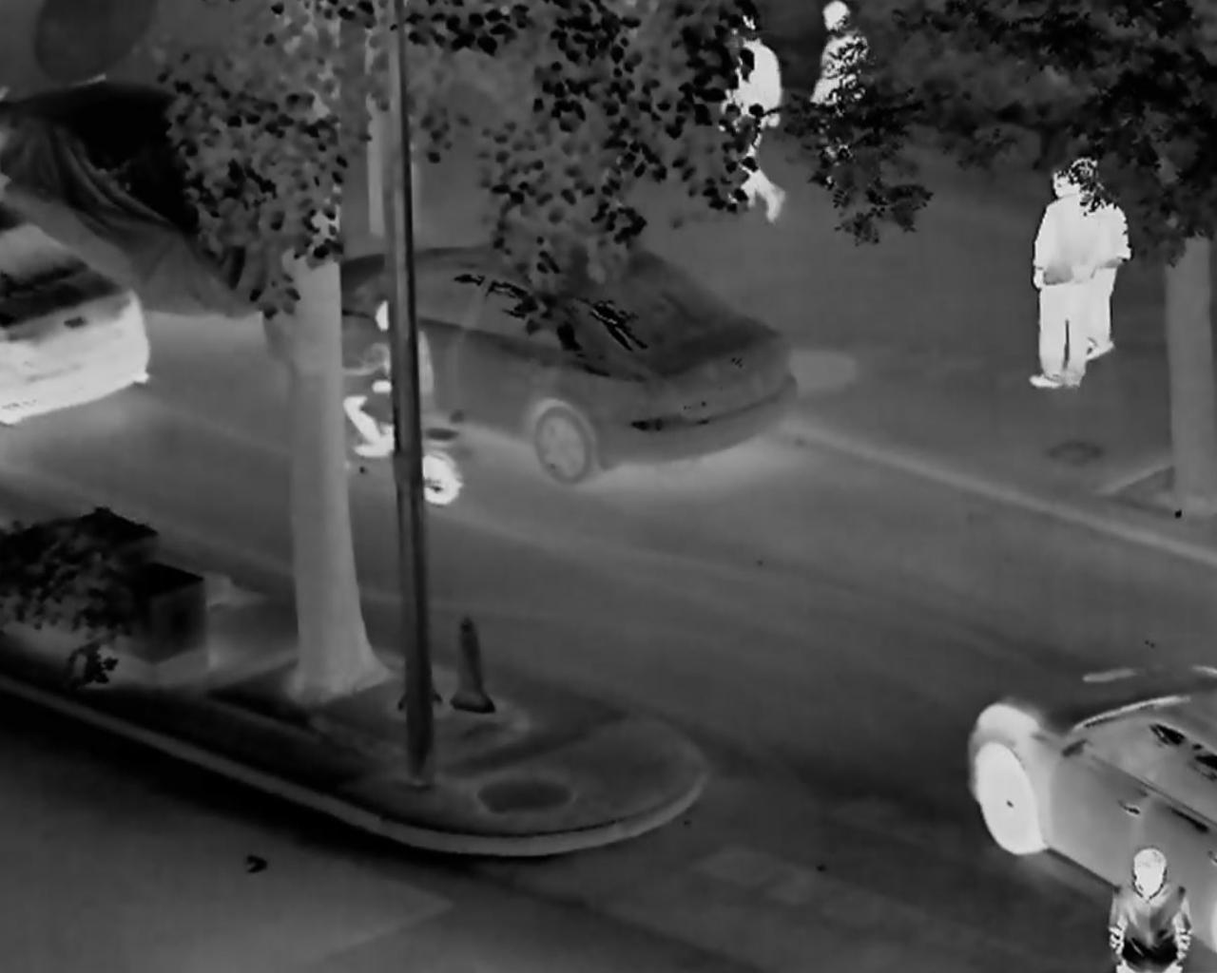person: (706, 11, 789, 221), (344, 298, 431, 464), (1030, 166, 1092, 396), (1059, 156, 1128, 359), (1104, 848, 1191, 973)
